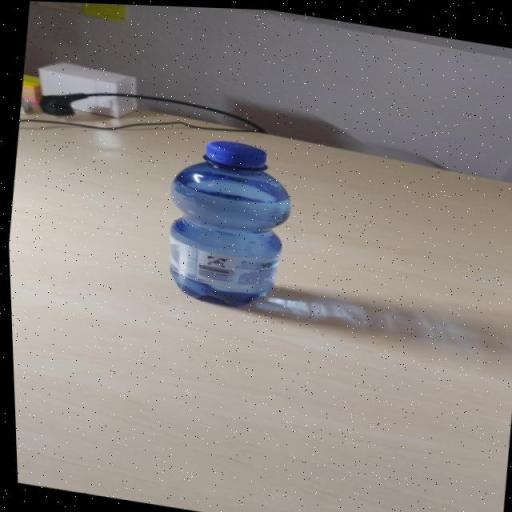plastic: (152, 131, 300, 313)
